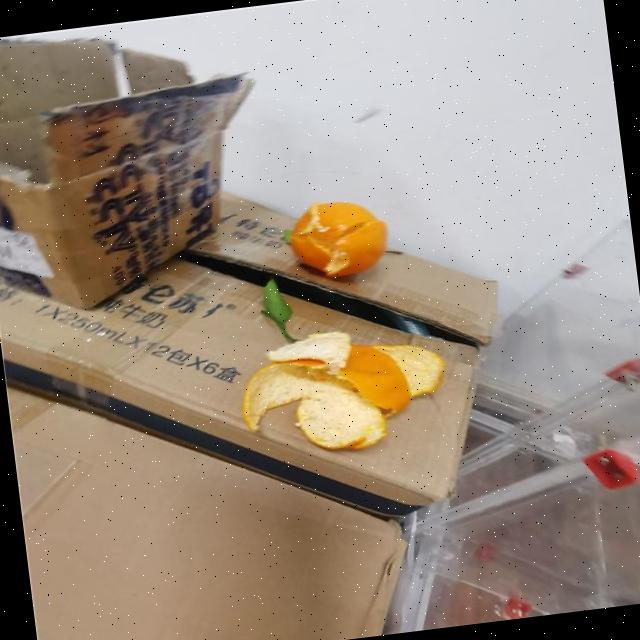orange-peel: (232, 316, 453, 463), (283, 192, 392, 282)
